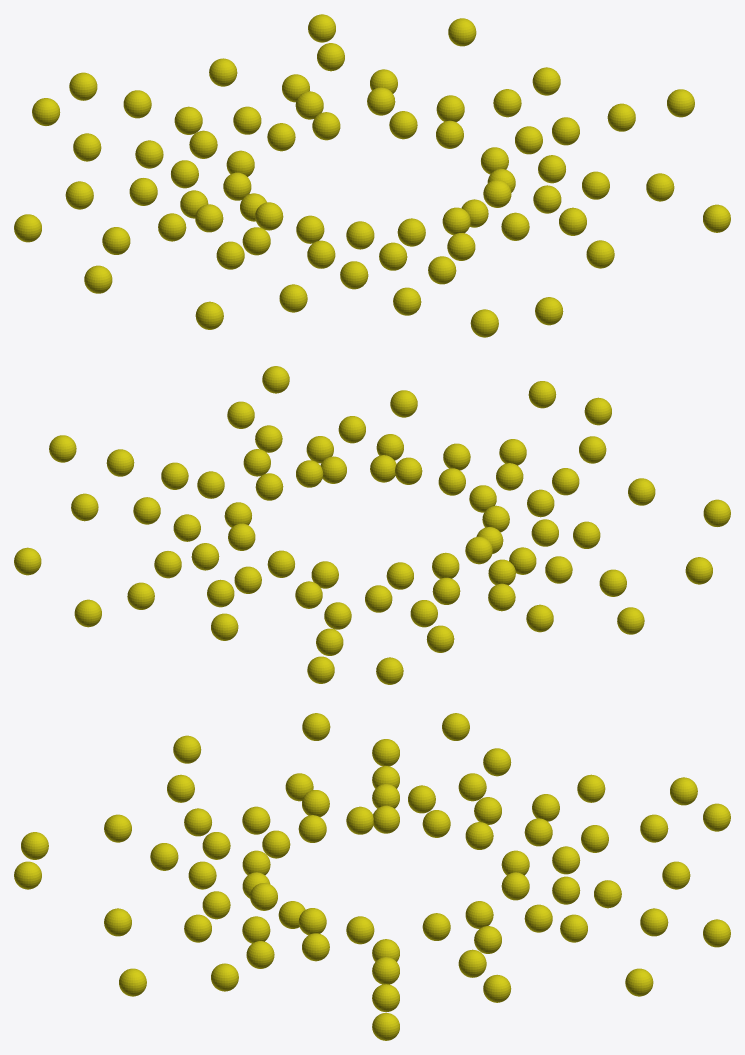
The model's file is Smallspawnpoints.fbx.
3 views of the same model, one above another, from view 1: azimuth 30°, elevation 25°; view 2: azimuth 150°, elevation 25°; view 3: azimuth 270°, elevation 25° (orthographic). The views are drawn at different scales.
Parts seen in each view (by area): view 1: Smalls; view 2: Smalls; view 3: Smalls.
Boxes of the visible parts, bbox=[...] form: Smalls: bbox=[14, 14, 730, 337]; Smalls: bbox=[14, 366, 730, 684]; Smalls: bbox=[14, 713, 730, 1040].
Size of the model in its own units: 1488 by 56.64 by 1446.
